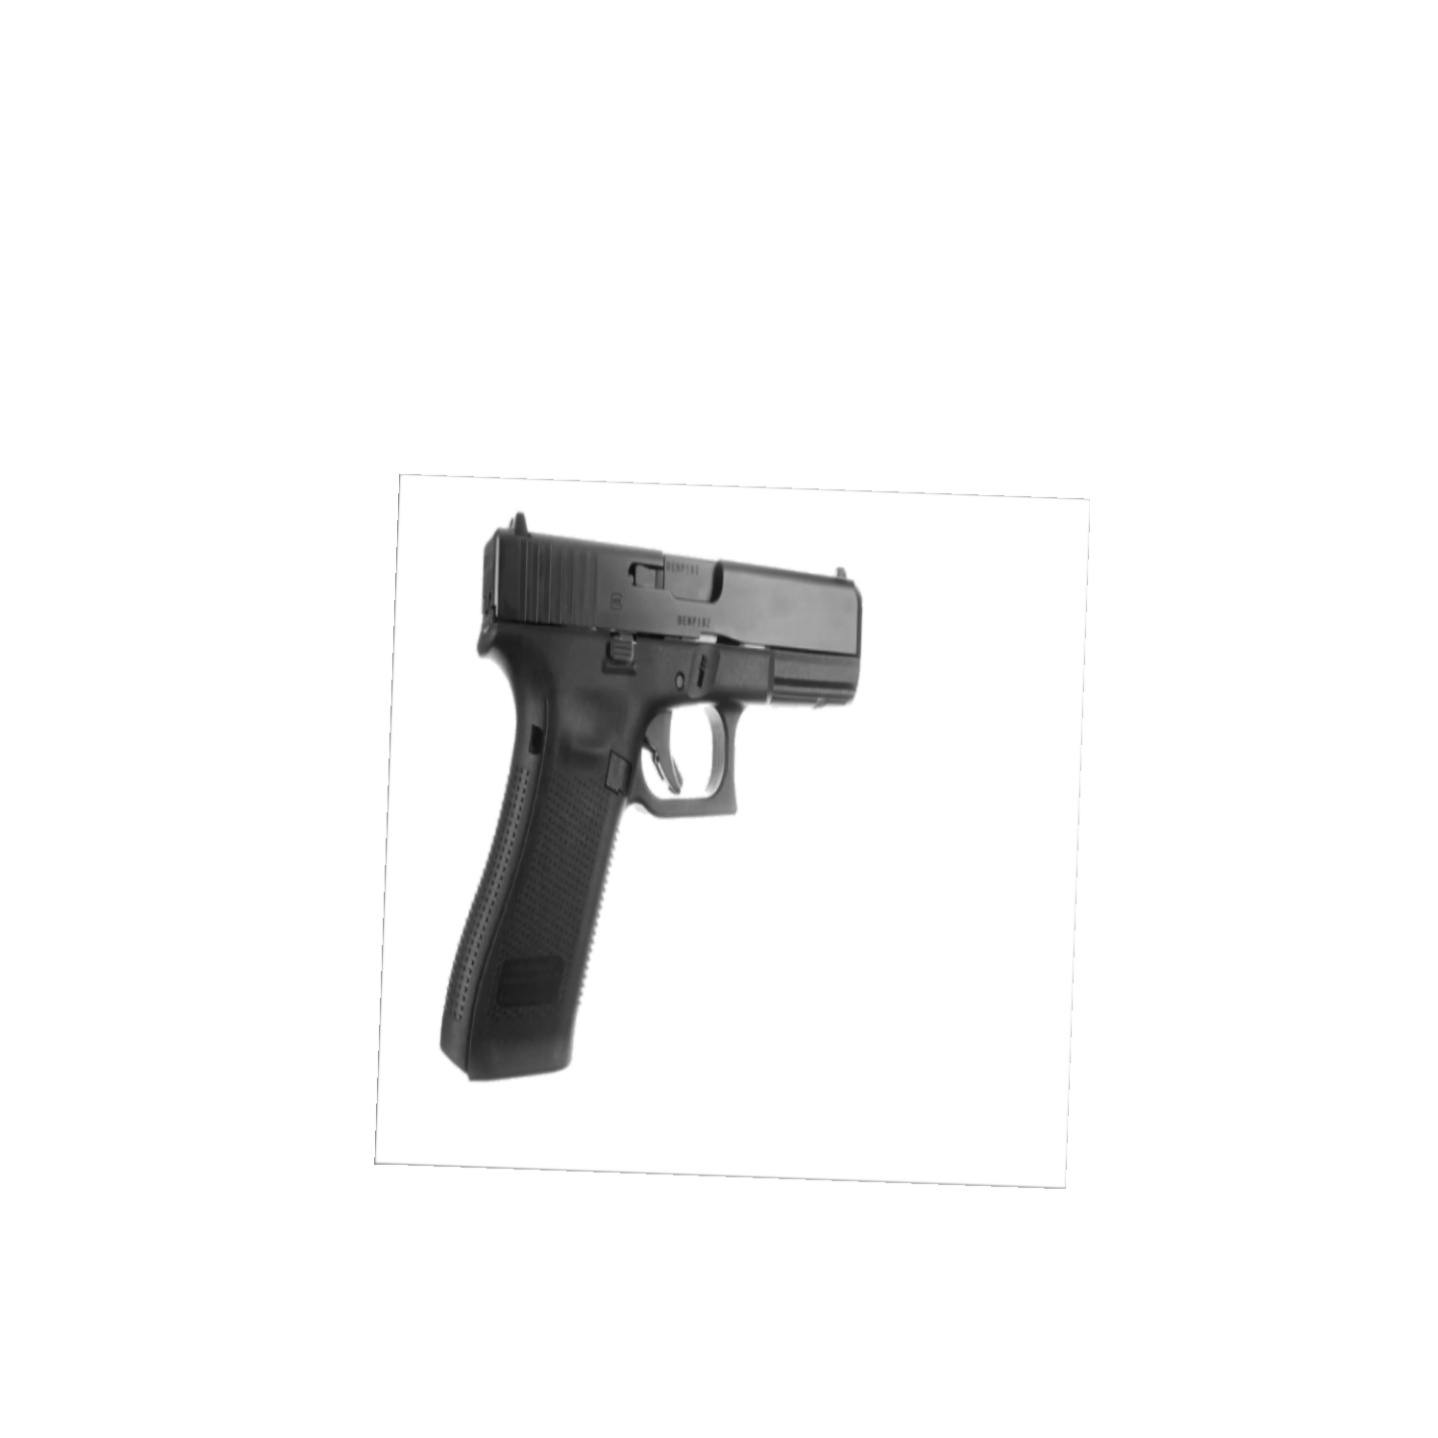gun: (433, 512, 866, 1085)
